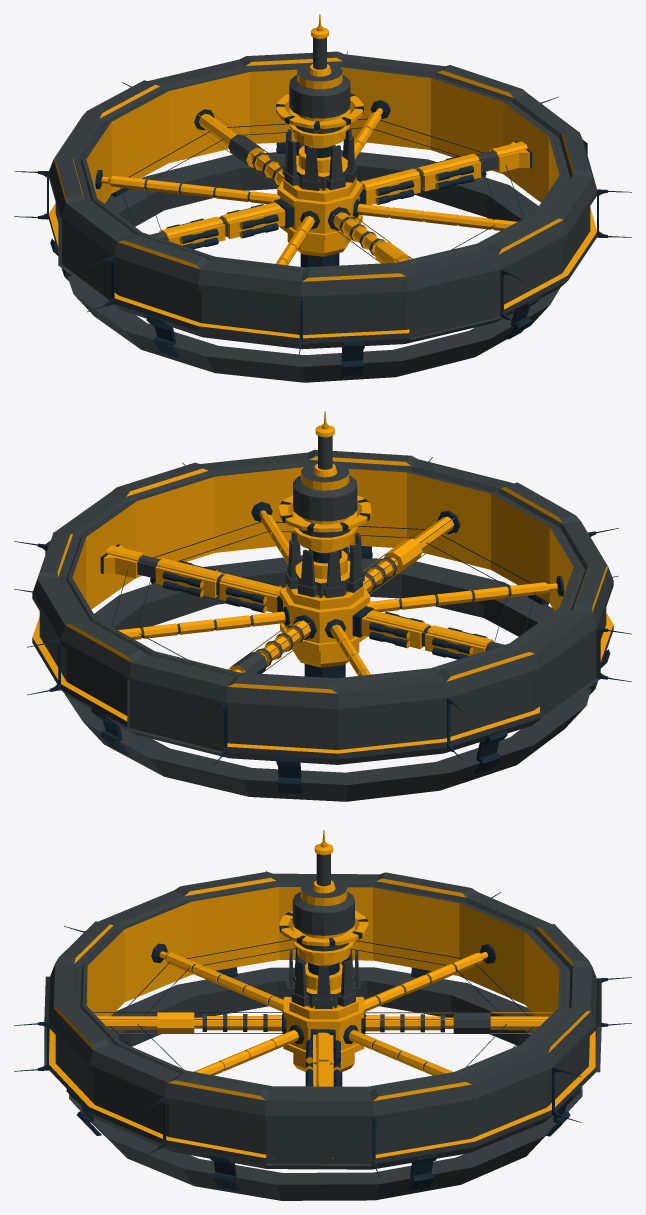
The model's file is Station1.fbx.
The picture shows the model from 3 angles, top to bottom: view 1: azimuth 30°, elevation 25°; view 2: azimuth 150°, elevation 25°; view 3: azimuth 270°, elevation 25°; orthographic projection. The views are drawn at different scales.
Visible parts, largest first — view 1: 2.Gateway.012; view 2: 2.Gateway.012; view 3: 2.Gateway.012.
Boxes of the visible parts, x1,y1,x2,y2 form: 2.Gateway.012: [14, 14, 631, 382]; 2.Gateway.012: [14, 411, 631, 801]; 2.Gateway.012: [14, 830, 631, 1200].
Size of the model in its own units: 19.81 by 10.99 by 19.81.
